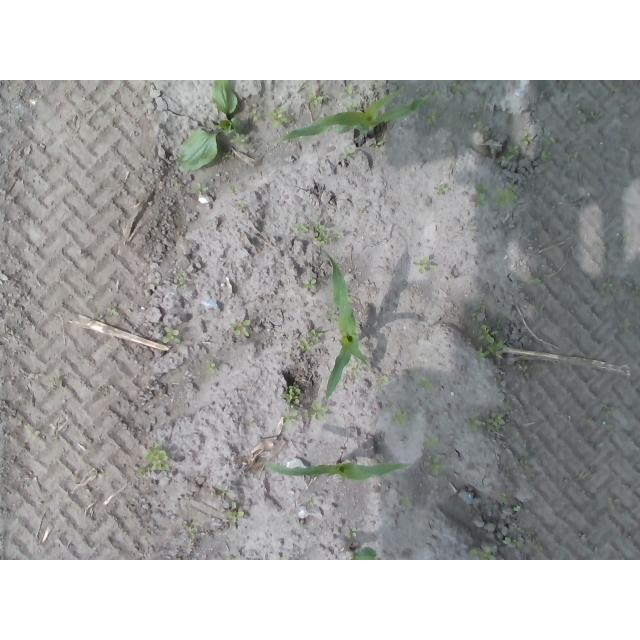Maize: (276, 81, 429, 143), (318, 244, 371, 406), (266, 458, 412, 483), (345, 544, 374, 561)
Weeds: (176, 80, 261, 172), (469, 301, 507, 359), (135, 442, 169, 479), (295, 221, 333, 247), (280, 383, 302, 425), (466, 412, 505, 433), (295, 328, 321, 352), (574, 102, 604, 122), (432, 462, 463, 479), (495, 185, 518, 207), (223, 501, 245, 523), (267, 107, 289, 129), (468, 544, 496, 561), (303, 400, 329, 418), (503, 535, 530, 551), (308, 88, 331, 105), (230, 319, 251, 337), (94, 307, 119, 322), (161, 325, 180, 343), (502, 143, 519, 162), (392, 409, 409, 427), (415, 376, 433, 393), (473, 185, 486, 208), (174, 271, 187, 290), (600, 280, 616, 295), (415, 257, 430, 272), (543, 129, 557, 144), (606, 497, 620, 512), (525, 275, 543, 286), (450, 82, 465, 95), (607, 80, 622, 93), (424, 437, 441, 448), (426, 112, 439, 126), (206, 361, 218, 376), (519, 131, 530, 147), (195, 182, 208, 195), (399, 496, 413, 508), (371, 139, 383, 152), (540, 151, 554, 162), (516, 361, 529, 372), (351, 361, 361, 375), (503, 398, 513, 412), (497, 493, 508, 504), (304, 279, 316, 289), (436, 183, 448, 193), (346, 527, 358, 537), (567, 152, 580, 161), (519, 462, 530, 472), (343, 149, 354, 159), (343, 85, 353, 96), (187, 527, 199, 535), (230, 184, 239, 193)
